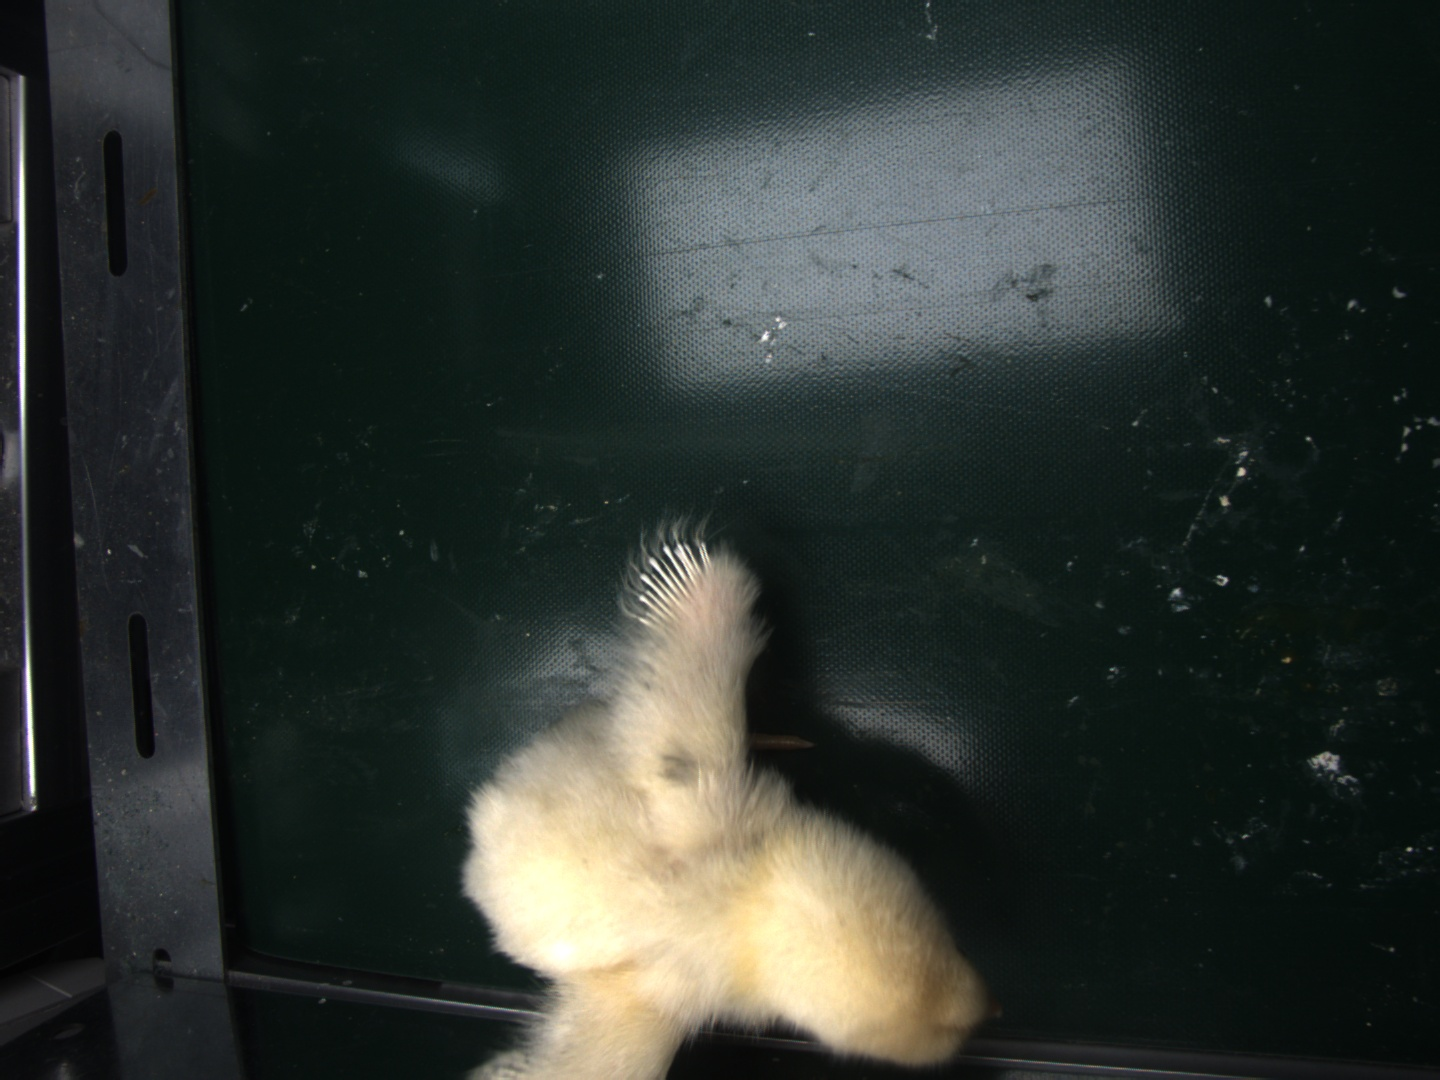male: (633, 534, 711, 628)
